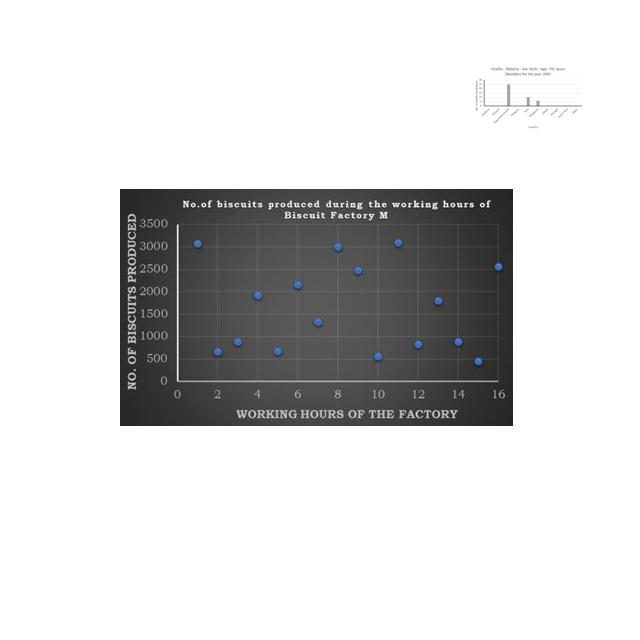Graph: (120, 189, 513, 426), (472, 65, 585, 130)
